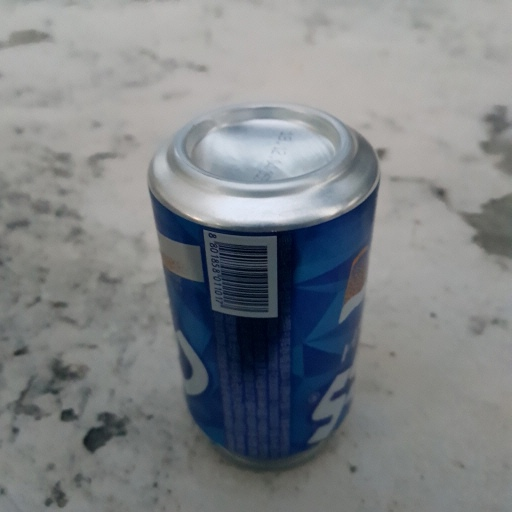Metal_0: (140, 97, 385, 466)
